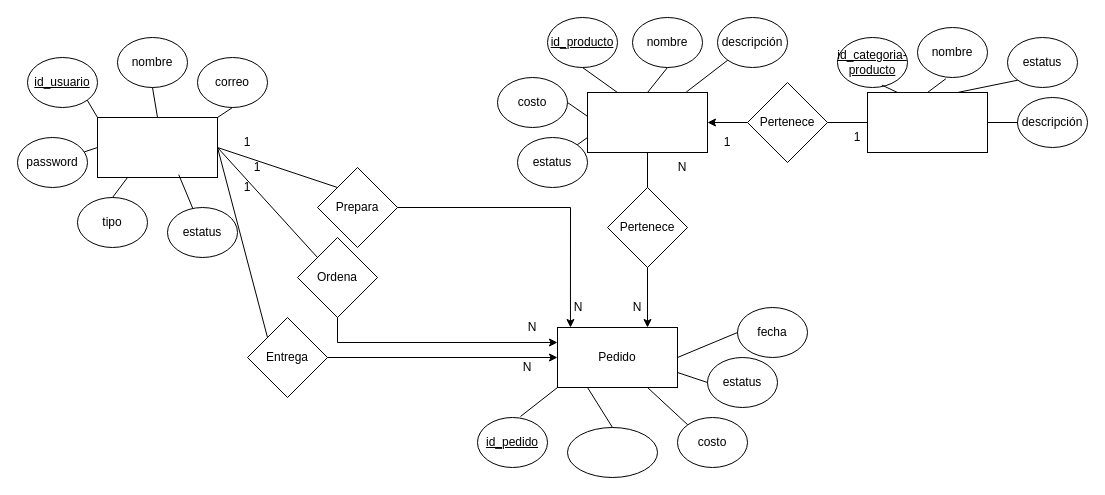
Some shapes in this 1105 by 495 pixel diagram are drawn without their labels. Each missing label, with the centre of its shape:
Categoria_producto: (927,122)
info_productos: (612,452)
Producto: (647,122)
Usuario: (157,147)
